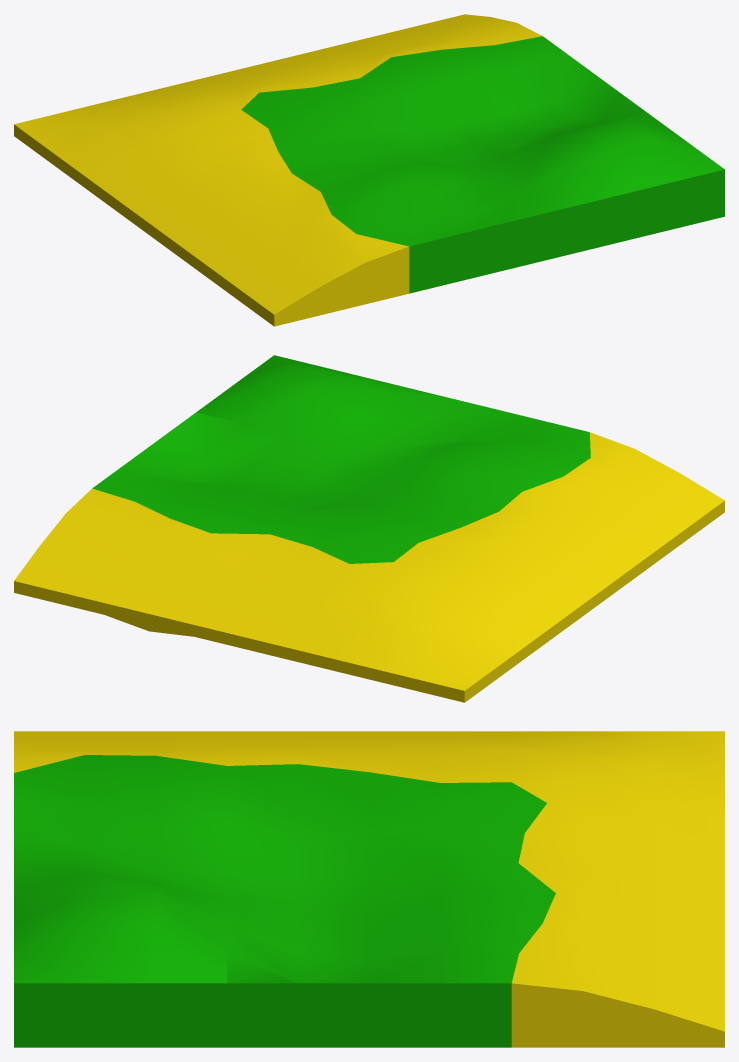
The model's file is island_corner_01.fbx.
3 renders of one model, top to bottom at view 1: azimuth 30°, elevation 25°; view 2: azimuth 150°, elevation 25°; view 3: azimuth 270°, elevation 25°, orthographic. The views are drawn at different scales.
Visible parts, largest first — view 1: Box001; view 2: Box001; view 3: Box001.
Boxes of the visible parts, x1,y1,x2,y2 form: Box001: (14, 14, 724, 326); Box001: (14, 355, 724, 702); Box001: (14, 731, 724, 1047).
Bounding box in the file's own units: 400 × 62.73 × 400.
